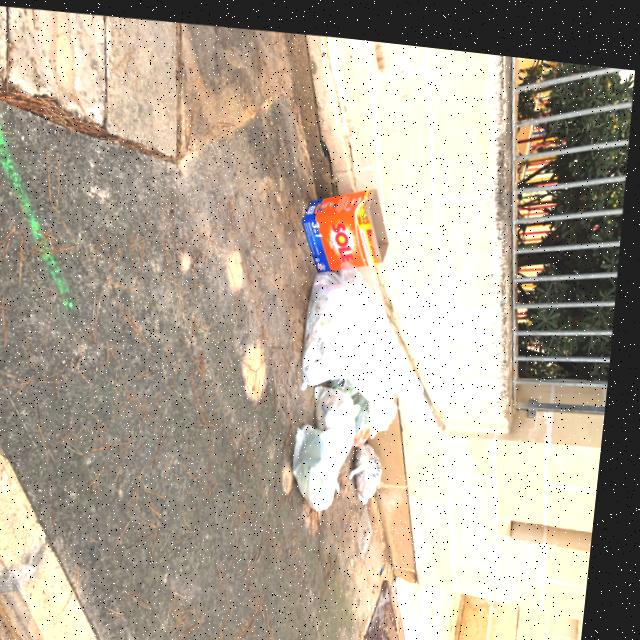Organic Waste -White Bag-: (287, 265, 441, 445), (285, 414, 358, 508), (314, 378, 370, 459), (357, 427, 396, 501), (360, 390, 382, 441)
Other: (298, 169, 400, 271)
